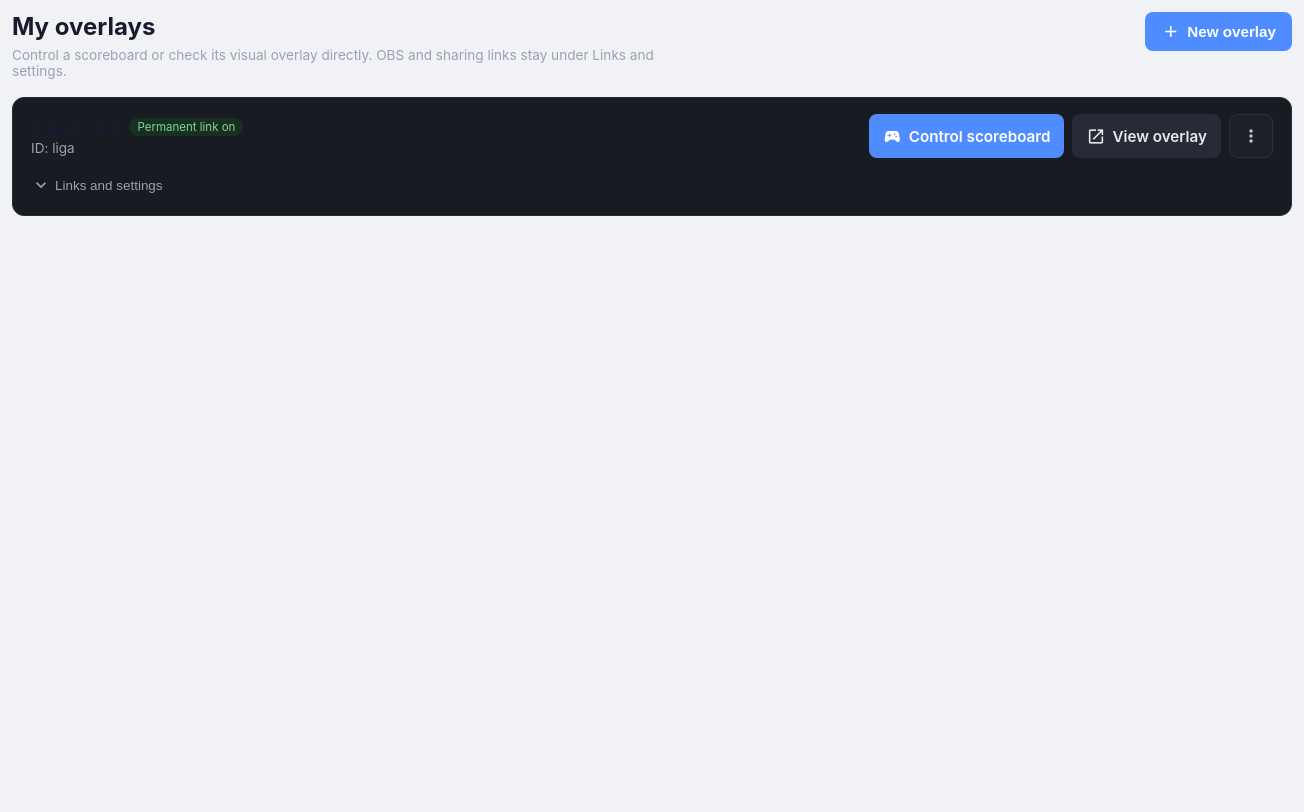
Test case: OverlaysPage flows › keeps the card and the Advanced panel open after removing public access
This screenshot has width=1304, height=812.
Click the button "Links and settings": [99, 185] box left=31, top=166, right=167, bottom=204
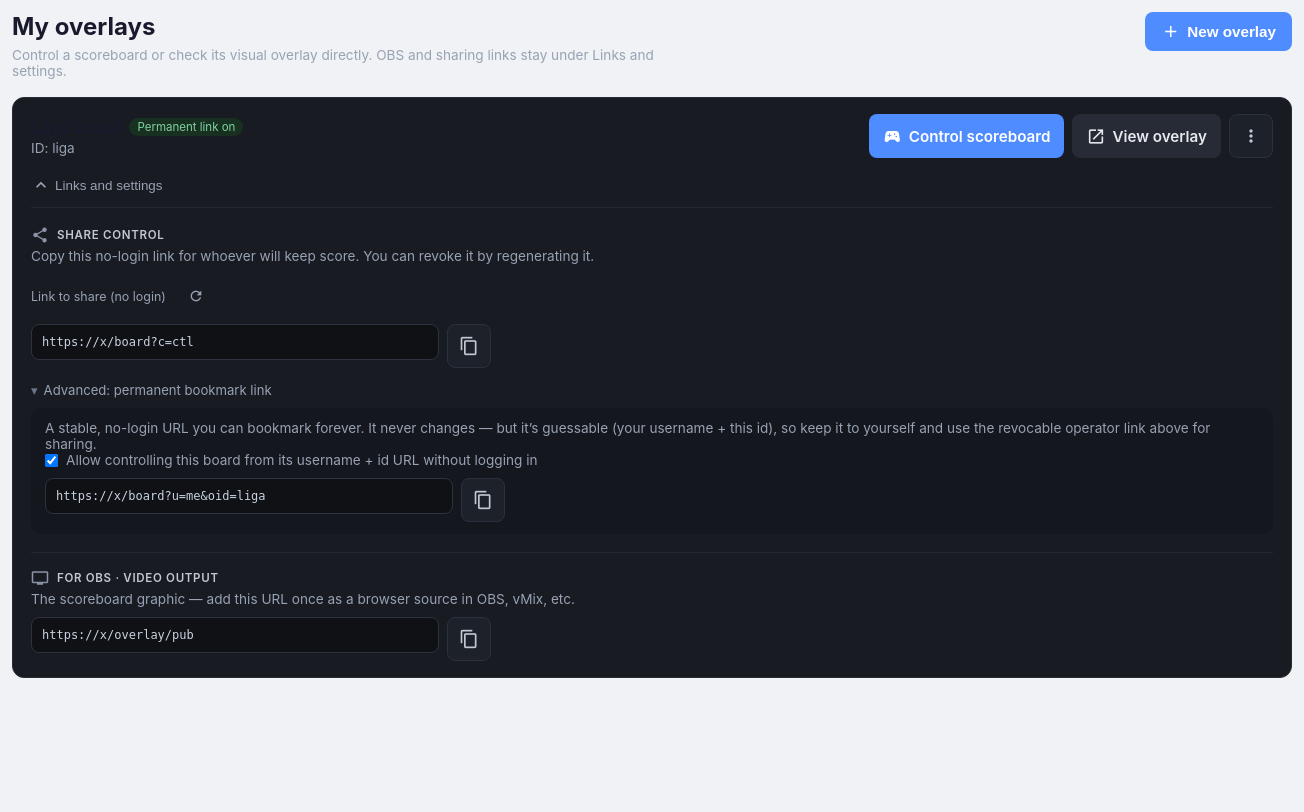
Click the checkbox: [52, 460] box left=45, top=454, right=58, bottom=466
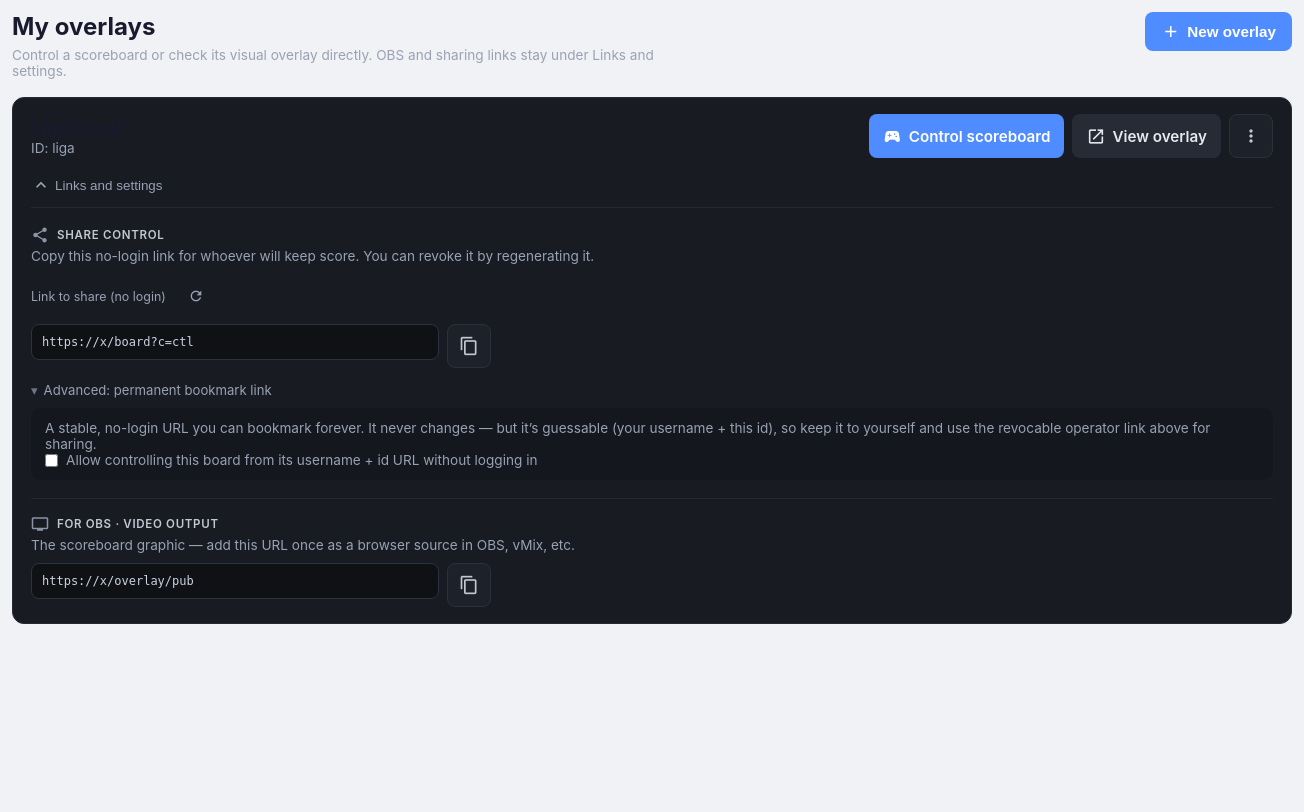
Expected: the checkbox is not checked, left=45, top=454, right=58, bottom=466
Expected: the button "Links and settings" is expanded, left=31, top=166, right=167, bottom=204
Expected: the text "Permanent link on" is gone
